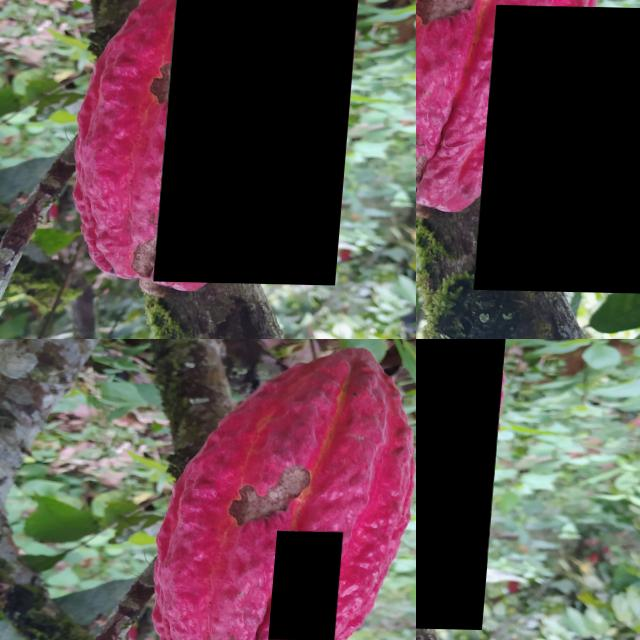Monilia: (160, 0, 365, 283)
Sana: (482, 3, 640, 291), (416, 339, 513, 627), (241, 418, 315, 535), (275, 529, 348, 640), (375, 465, 416, 581), (230, 536, 272, 622), (199, 339, 255, 365)
